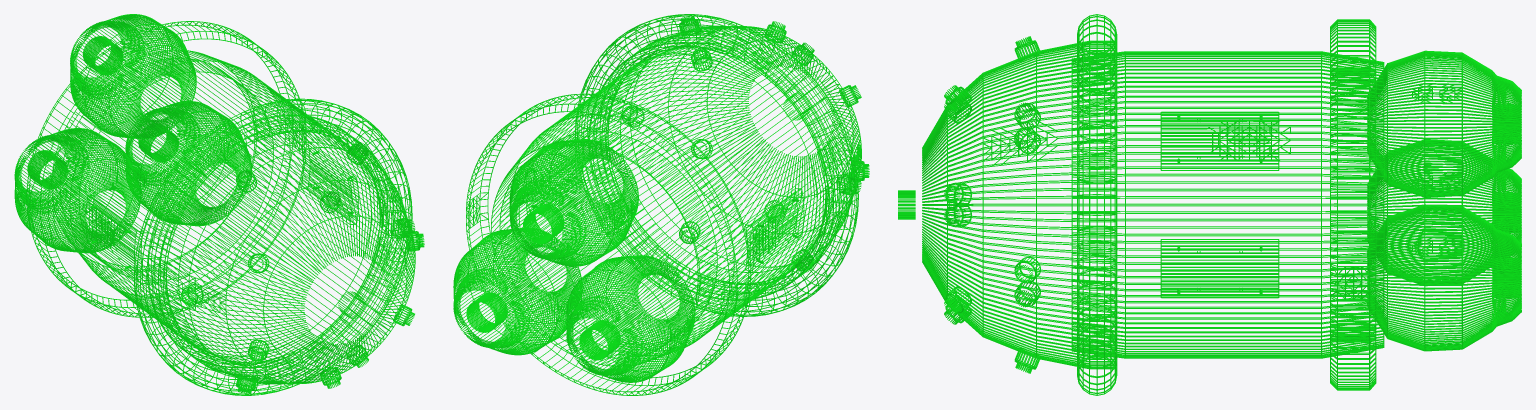
The model's file is static-inducer-wireframe.glb.
3 renders of one model, left to right at view 1: azimuth 30°, elevation 25°; view 2: azimuth 150°, elevation 25°; view 3: azimuth 270°, elevation 25°, orthographic. The views are drawn at different scales.
Parts seen in each view (by area): view 1: chassis technical wire, tri-phase-power-input technical wire, transmitter-array technical wire, toroidal-interference-coil technical wire; view 2: tri-phase-power-input technical wire, chassis technical wire, transmitter-array technical wire, toroidal-interference-coil technical wire; view 3: chassis technical wire, tri-phase-power-input technical wire, transmitter-array technical wire, toroidal-interference-coil technical wire.
Part boxes in pixels (x1,y1,x2,y2): chassis technical wire: (26,21,388,367); tri-phase-power-input technical wire: (14,14,251,253); transmitter-array technical wire: (147,114,424,394); toroidal-interference-coil technical wire: (134,98,412,395); tri-phase-power-input technical wire: (453,139,695,382); chassis technical wire: (466,42,834,395); transmitter-array technical wire: (588,16,869,300); toroidal-interference-coil technical wire: (575,14,858,316); chassis technical wire: (1071,19,1384,390); tri-phase-power-input technical wire: (1367,50,1521,351); transmitter-array technical wire: (898,36,1115,373); toroidal-interference-coil technical wire: (1077,14,1117,395).
Size of the model in its own units: 1.07 by 1.07 by 1.75.
